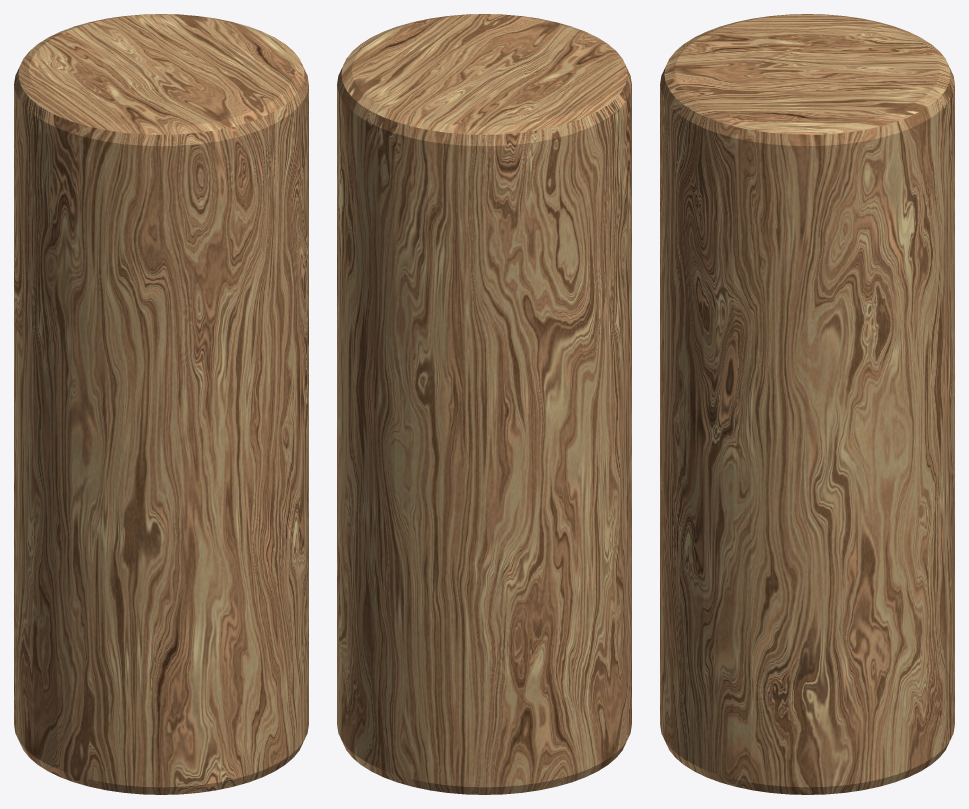
File: pion.glb
The picture shows the model from 3 angles, left to right: view 1: azimuth 30°, elevation 25°; view 2: azimuth 150°, elevation 25°; view 3: azimuth 270°, elevation 25°; orthographic projection.
Parts seen in each view (by area): view 1: Cylinder; view 2: Cylinder; view 3: Cylinder.
Boxes of the visible parts, x1,y1,x2,y2 form: Cylinder: (14, 14, 308, 794); Cylinder: (337, 14, 631, 794); Cylinder: (660, 14, 954, 794).
Size of the model in its own units: 2 by 5 by 2.
1 material, 1 textured.
